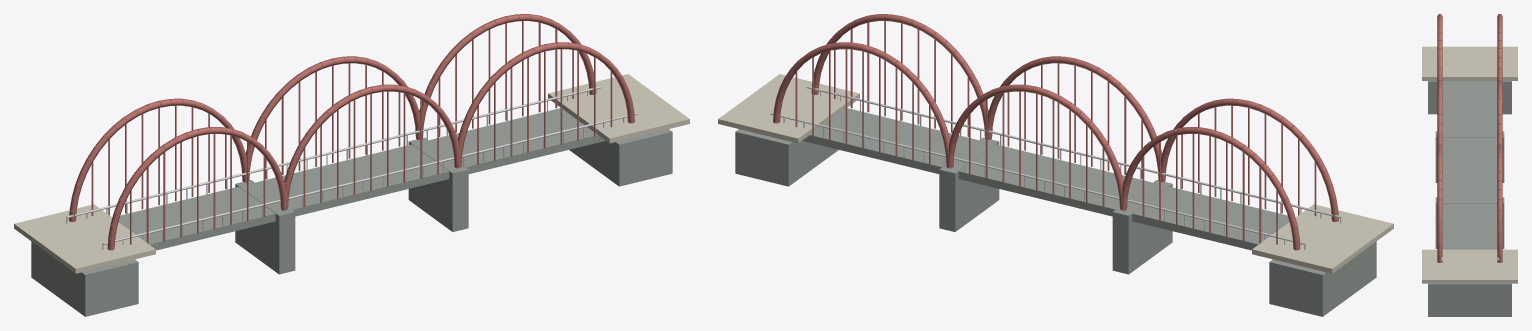
Rendered from guandu.glb.
3 views of the same model, side by side, from view 1: azimuth 30°, elevation 25°; view 2: azimuth 150°, elevation 25°; view 3: azimuth 270°, elevation 25° (orthographic). The views are drawn at different scales.
Parts seen in each view (by area): view 1: guandu; view 2: guandu; view 3: guandu.
Boxes of the visible parts, box(x1,y1,x2,y2) form: guandu: box(14, 14, 689, 316); guandu: box(718, 14, 1393, 316); guandu: box(1422, 14, 1517, 316).
Size of the model in its own units: 46 by 11.6 by 8.
